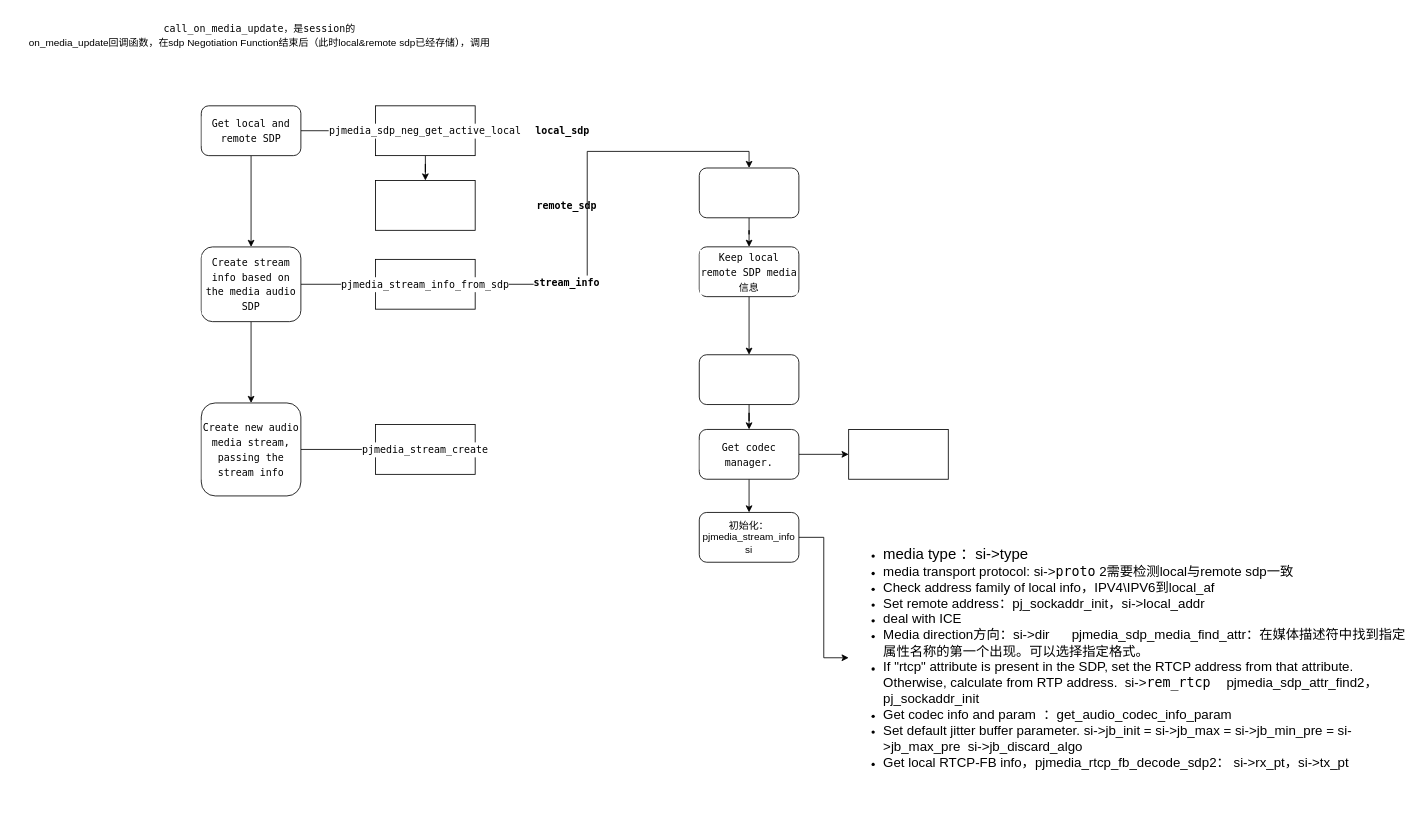
This 1427x833 diagram has some shape labels left out. Here are the shapes that lost their labels. From the top down, the centre of each, then its label:
the point at 425,205: pjmedia_sdp_neg_get_active_remote
the point at 748,192: Validate arguments:
the point at 748,379: Media type must be audio
the point at 898,454: pjmedia_endpt_get_codec_mgr
